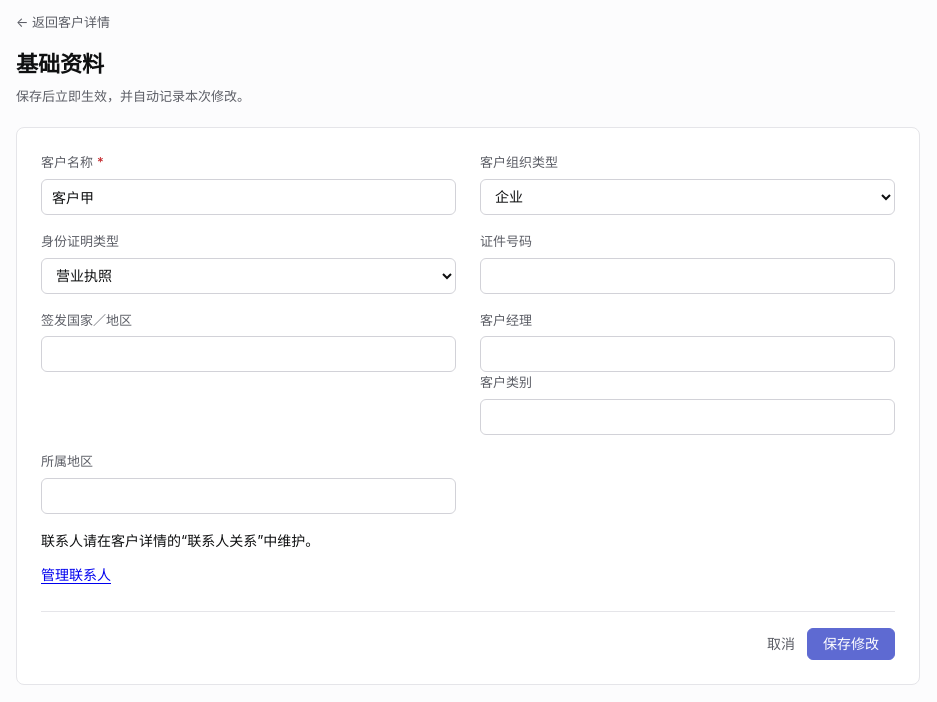
Test: CustomerEditPage › uses controlled compatible type options and maps supported legacy values
Expected: the dropdown named "identityType" shows "营业执照", [41,258,456,294]
Select "自然人" in the dropdown named "customerType" at (688, 197), box [480,179,895,215]
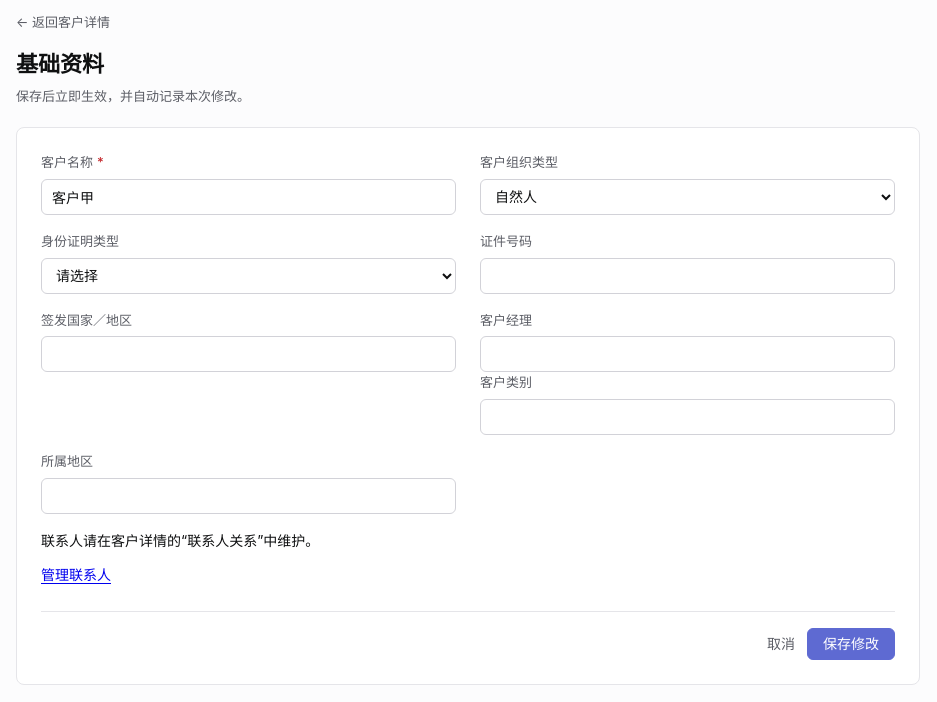
Expected: the dropdown named "identityType" shows "请选择", [41,258,456,294]
